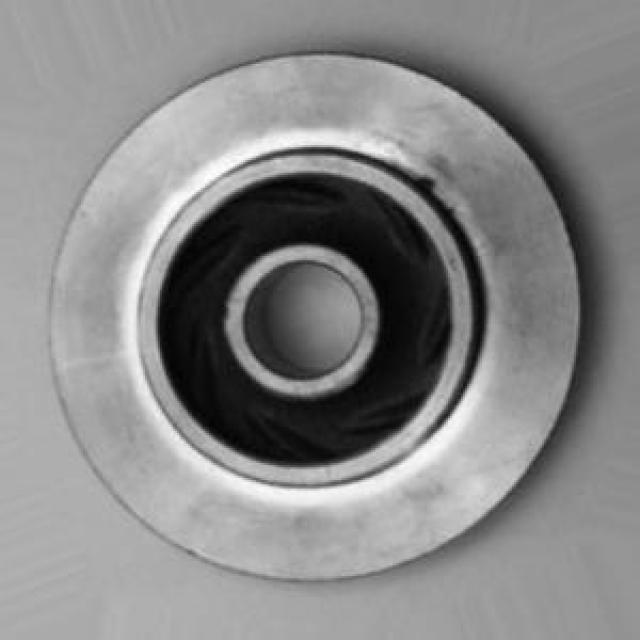Defect: (412, 166, 446, 202)
